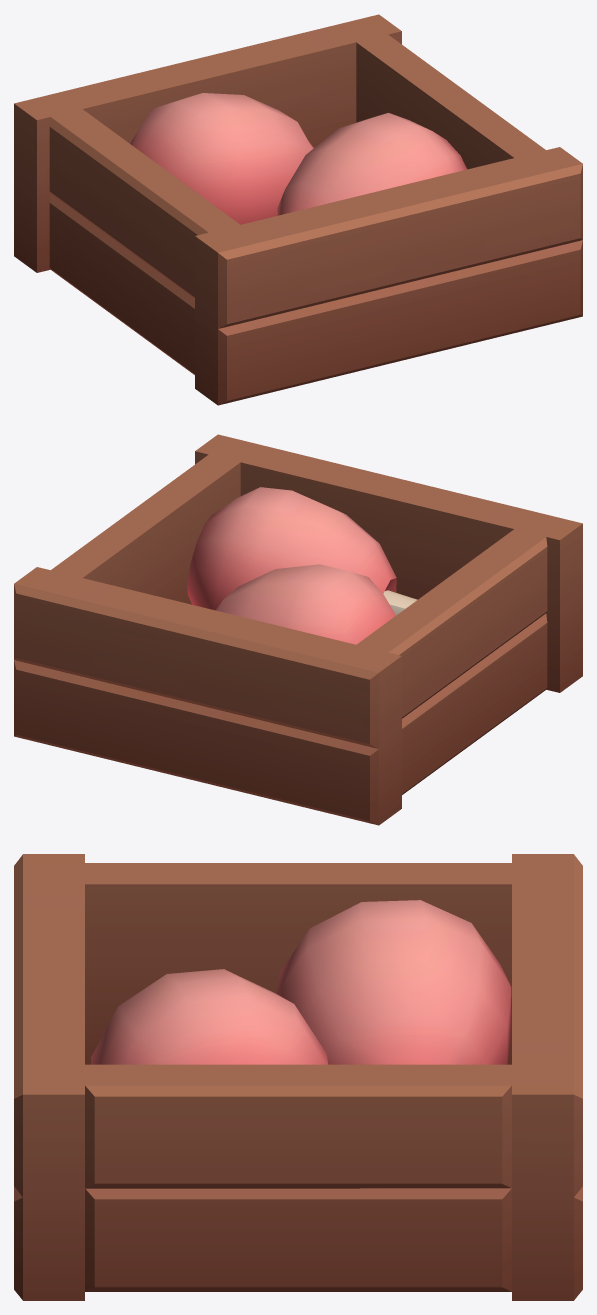
The model's file is kaykit-restaurant-bits-crate-ham.glb.
The picture shows the model from 3 angles, top to bottom: view 1: azimuth 30°, elevation 25°; view 2: azimuth 150°, elevation 25°; view 3: azimuth 270°, elevation 25°; orthographic projection. The views are drawn at different scales.
Visible parts, largest first — view 1: crate_ham; view 2: crate_ham; view 3: crate_ham.
Boxes of the visible parts, x1,y1,x2,y2 form: crate_ham: [14, 14, 582, 405]; crate_ham: [14, 434, 582, 825]; crate_ham: [14, 854, 582, 1300].
Bounding box in the file's own units: 2 × 0.8936 × 2.
1 material, 1 textured.
